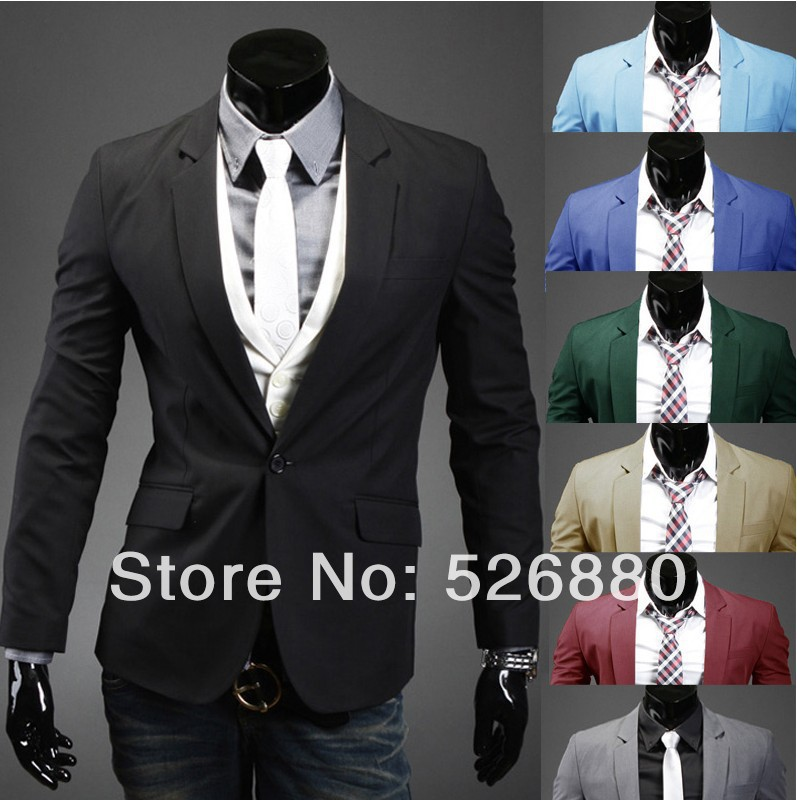F_M_suit jacket: (9, 75, 543, 707)
F_tie: (246, 125, 311, 369)
